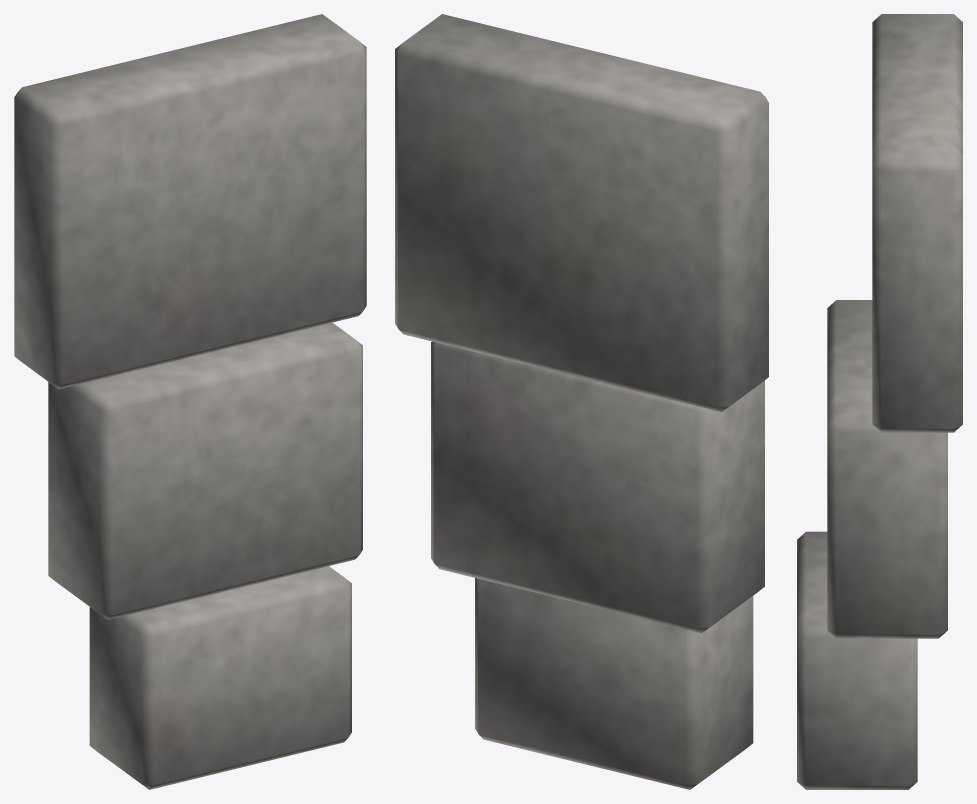
File: corbel-bracket.glb
The picture shows the model from 3 angles, left to right: view 1: azimuth 30°, elevation 25°; view 2: azimuth 150°, elevation 25°; view 3: azimuth 270°, elevation 25°; orthographic projection. The views are drawn at different scales.
Parts seen in each view (by area): view 1: corbel_bracket; view 2: corbel_bracket; view 3: corbel_bracket.
Part boxes in pixels (x1,y1,x2,y2): corbel_bracket: (14, 14, 366, 789); corbel_bracket: (395, 14, 768, 789); corbel_bracket: (797, 14, 962, 789).
Size of the model in its own units: 0.6 by 1.2 by 0.275.
Materials: 1 (1 with a texture image).
